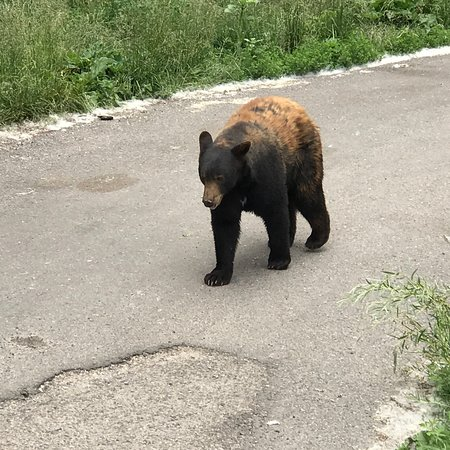bear: (195, 130, 254, 212)
